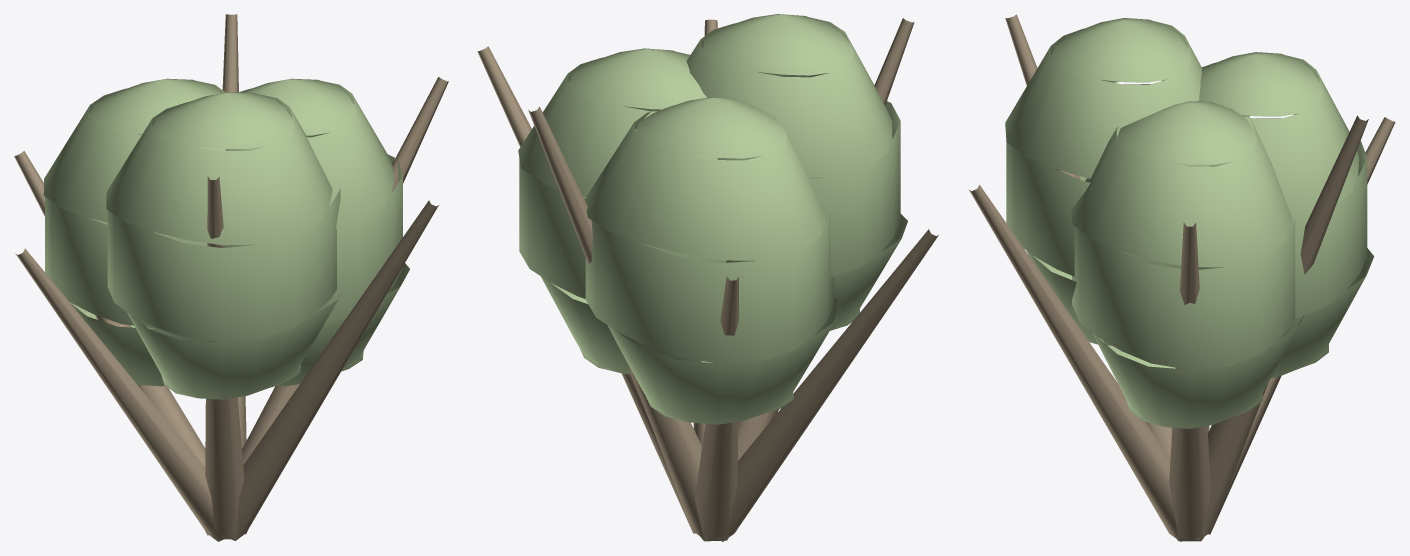
The model's file is myrtus-communis-light.glb.
The picture shows the model from 3 angles, left to right: view 1: azimuth 30°, elevation 25°; view 2: azimuth 150°, elevation 25°; view 3: azimuth 270°, elevation 25°; orthographic projection. The views are drawn at different scales.
Parts seen in each view (by area): view 1: myrtus-communis; view 2: myrtus-communis; view 3: myrtus-communis.
Part boxes in pixels (left/top/right/bottom): myrtus-communis: left=14, top=14, right=448, bottom=541; myrtus-communis: left=477, top=14, right=938, bottom=541; myrtus-communis: left=969, top=14, right=1395, bottom=541.
Size of the model in its own units: 1.03 by 1.07 by 0.8348.
